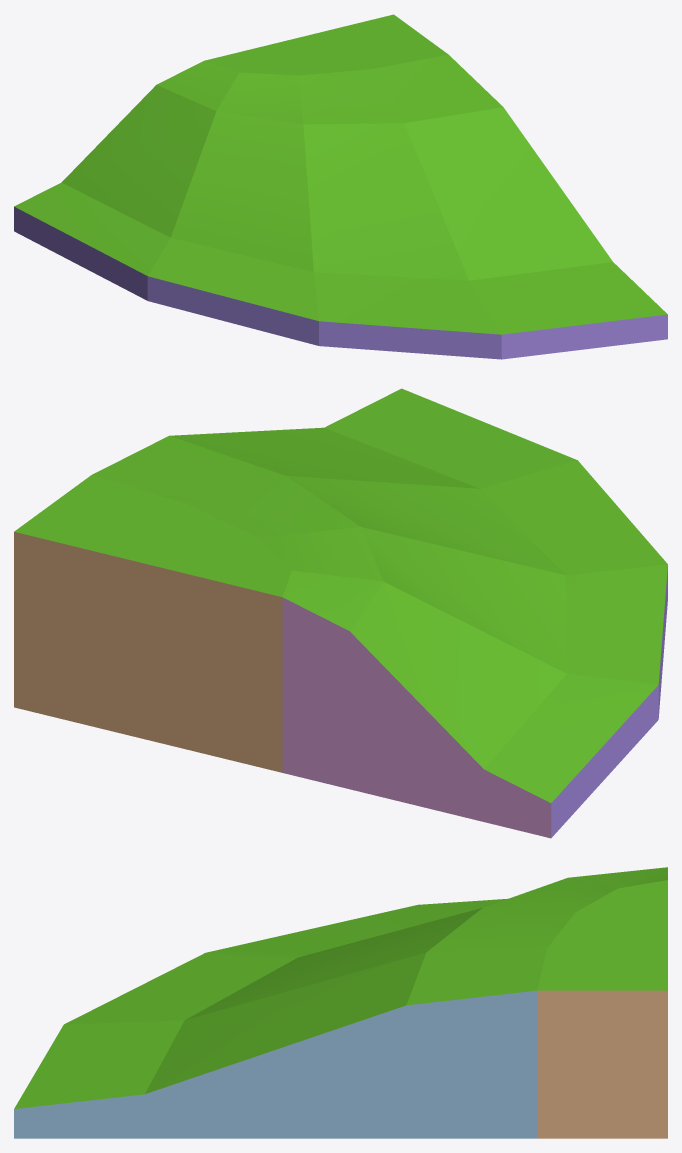
File: Grass_Hill_Grade_Transition_Curve_Outer_4x5.glb
The picture shows the model from 3 angles, top to bottom: view 1: azimuth 30°, elevation 25°; view 2: azimuth 150°, elevation 25°; view 3: azimuth 270°, elevation 25°; orthographic projection. The views are drawn at different scales.
Visible parts, largest first — view 1: Grass_Hill_Grade_Transition_Curve_Outer_4x5; view 2: Grass_Hill_Grade_Transition_Curve_Outer_4x5; view 3: Grass_Hill_Grade_Transition_Curve_Outer_4x5.
Boxes of the visible parts, x1,y1,x2,y2 form: Grass_Hill_Grade_Transition_Curve_Outer_4x5: (14,14,667,359); Grass_Hill_Grade_Transition_Curve_Outer_4x5: (14,388,667,838); Grass_Hill_Grade_Transition_Curve_Outer_4x5: (14,867,667,1138).
Bounding box in the file's own units: 400 × 125 × 500.
